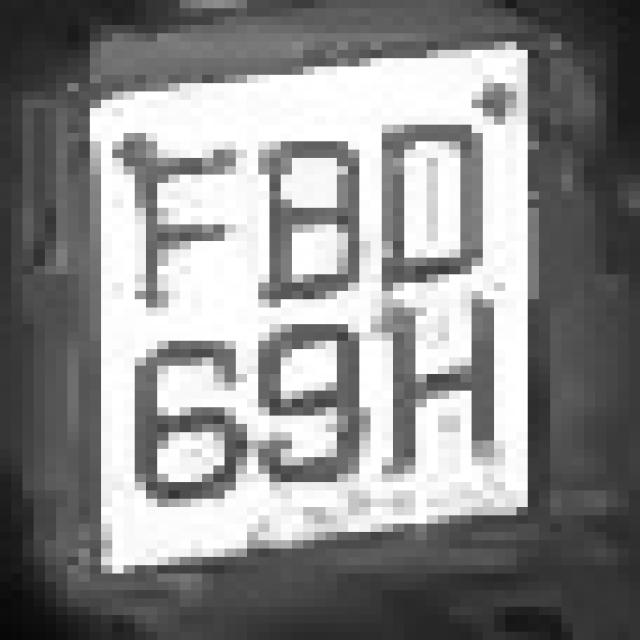6: (101, 300, 258, 516)
9: (224, 300, 370, 516)
B: (236, 108, 382, 324)
D: (371, 83, 505, 291)
F: (101, 116, 247, 332)
H: (382, 291, 516, 482)
